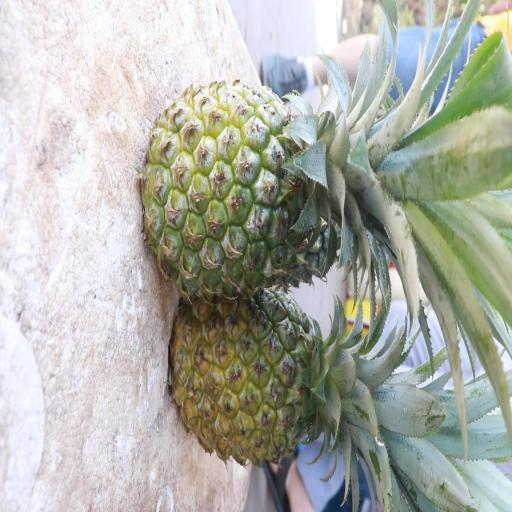------------------------------: (147, 75, 355, 298)
Pineapple - v8 v1: (174, 290, 359, 468)
